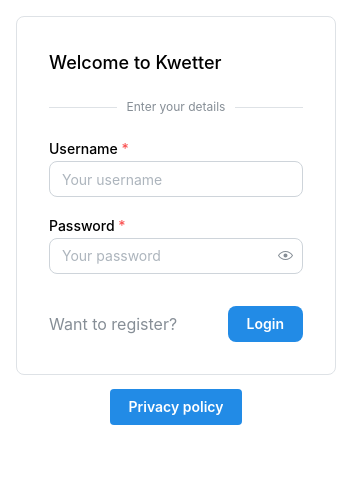
Test case: Homepage › should toggle to register form
The image size is (353, 483).
Note: Toggle to the register form
Click the button "Want to register?" at (113, 325), box [49,312,177,337]
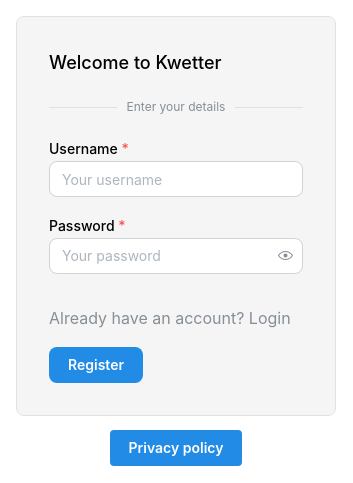
Result: the button "Register" is shown at [68,356,124,373]
